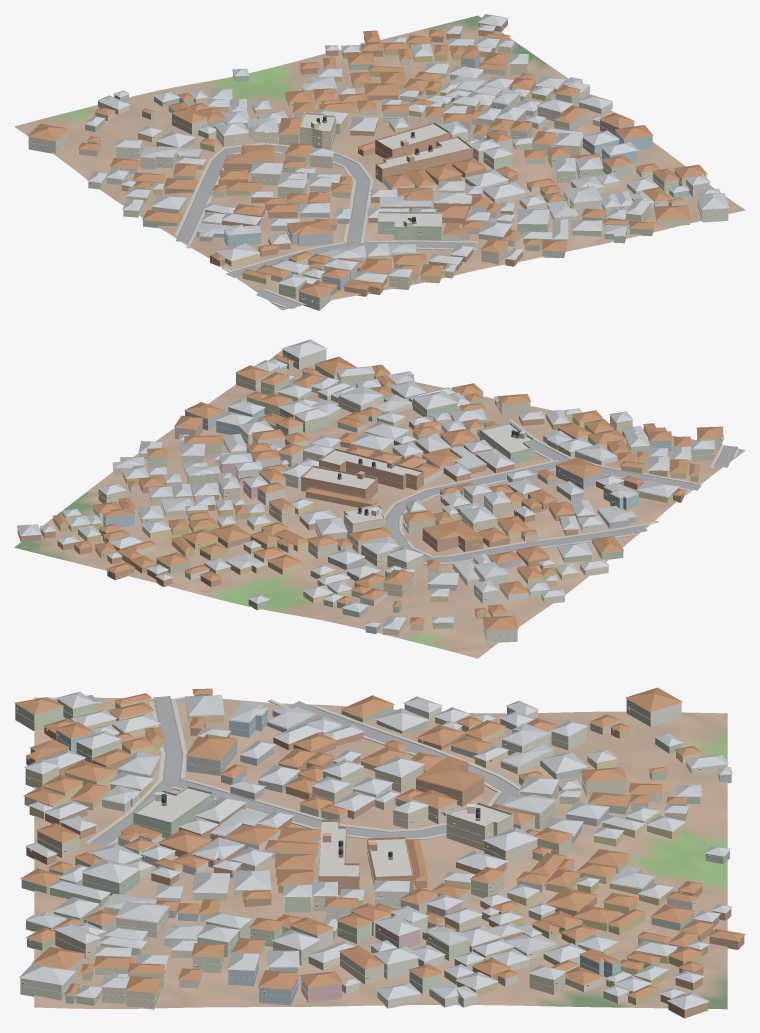
3 renders of one model, top to bottom at view 1: azimuth 30°, elevation 25°; view 2: azimuth 150°, elevation 25°; view 3: azimuth 270°, elevation 25°, orthographic. The views are drawn at different scales.
Visible parts, largest first — view 1: Buildings-col, Terrain-col, Details, Roads-col, Sidewalks-col; view 2: Buildings-col, Terrain-col, Details, Roads-col, Sidewalks-col; view 3: Buildings-col, Terrain-col, Roads-col, Details, Sidewalks-col.
Part boxes in pixels (x1,y1,x2,y2): Buildings-col: (27, 14, 729, 310); Terrain-col: (14, 15, 745, 310); Details: (28, 31, 728, 304); Roads-col: (176, 144, 474, 308); Sidewalks-col: (175, 143, 477, 307); Buildings-col: (16, 339, 723, 642); Terrain-col: (14, 350, 745, 658); Details: (93, 355, 723, 636); Roads-col: (385, 421, 737, 563); Sidewalks-col: (384, 419, 739, 565); Buildings-col: (14, 687, 745, 1018); Terrain-col: (34, 697, 727, 1009); Roads-col: (53, 695, 519, 845); Details: (15, 694, 740, 1000); Sidewalks-col: (50, 697, 520, 846).
Size of the model in its own units: 271 by 17.27 by 270.
